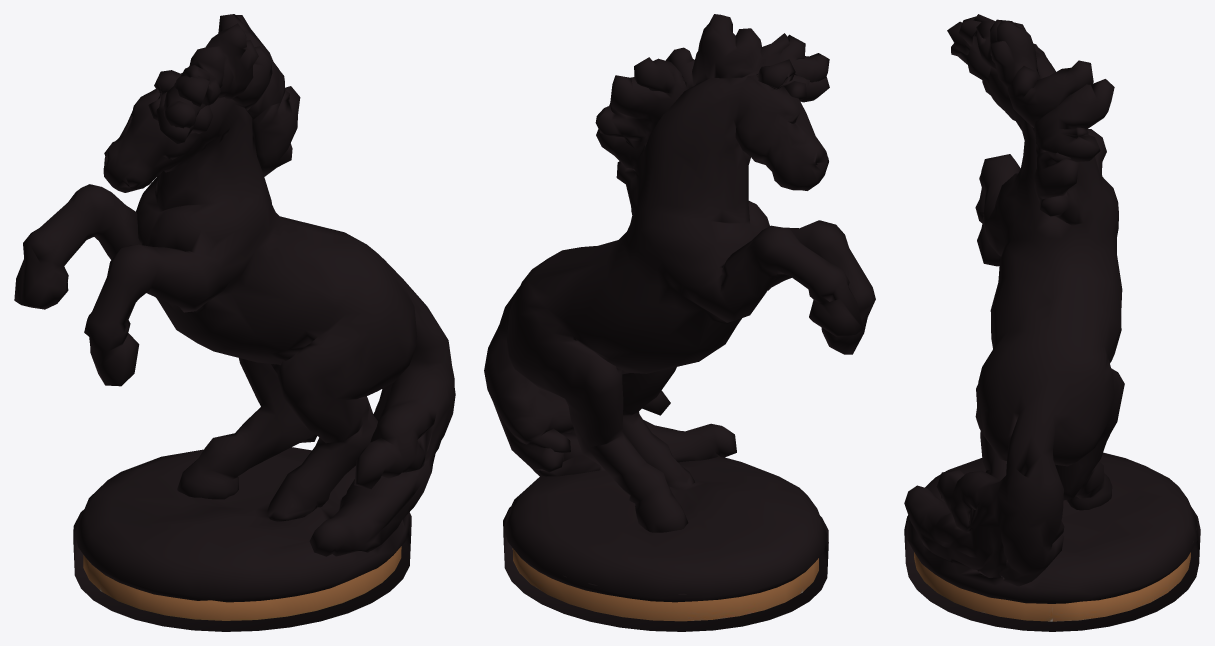
Rendered from SM_Int_HorseStatue.fbx.
3 views of the same model, side by side, from view 1: azimuth 30°, elevation 25°; view 2: azimuth 150°, elevation 25°; view 3: azimuth 270°, elevation 25° (orthographic). The views are drawn at different scales.
Visible parts, largest first — view 1: SM_Int_HorseStatue; view 2: SM_Int_HorseStatue; view 3: SM_Int_HorseStatue.
Boxes of the visible parts, bbox=[...] form: SM_Int_HorseStatue: bbox=[14, 14, 455, 631]; SM_Int_HorseStatue: bbox=[484, 14, 875, 631]; SM_Int_HorseStatue: bbox=[904, 14, 1200, 631].
Size of the model in its own units: 0.1717 by 0.2268 by 0.1153.
